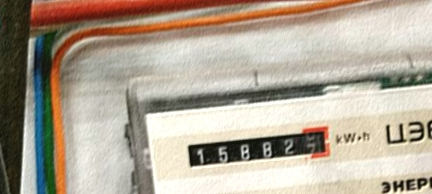1: (195, 147, 207, 166)
2: (283, 138, 295, 155)
5: (216, 146, 230, 163)
7: (305, 142, 317, 156)
8: (239, 143, 251, 161), (262, 141, 273, 158)
screen: (180, 123, 338, 173)
